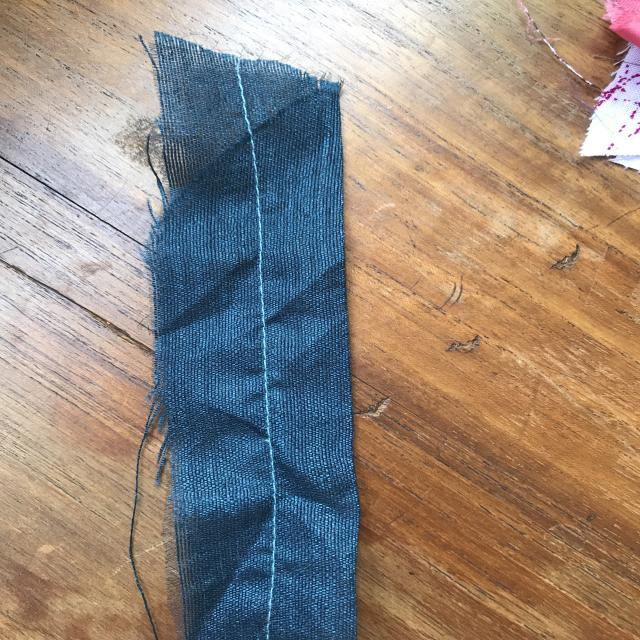good: (246, 226, 286, 440)
